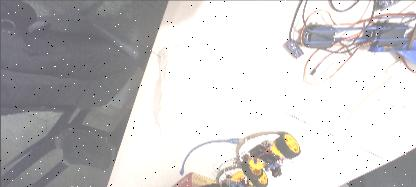Others: (158, 44, 288, 151)
